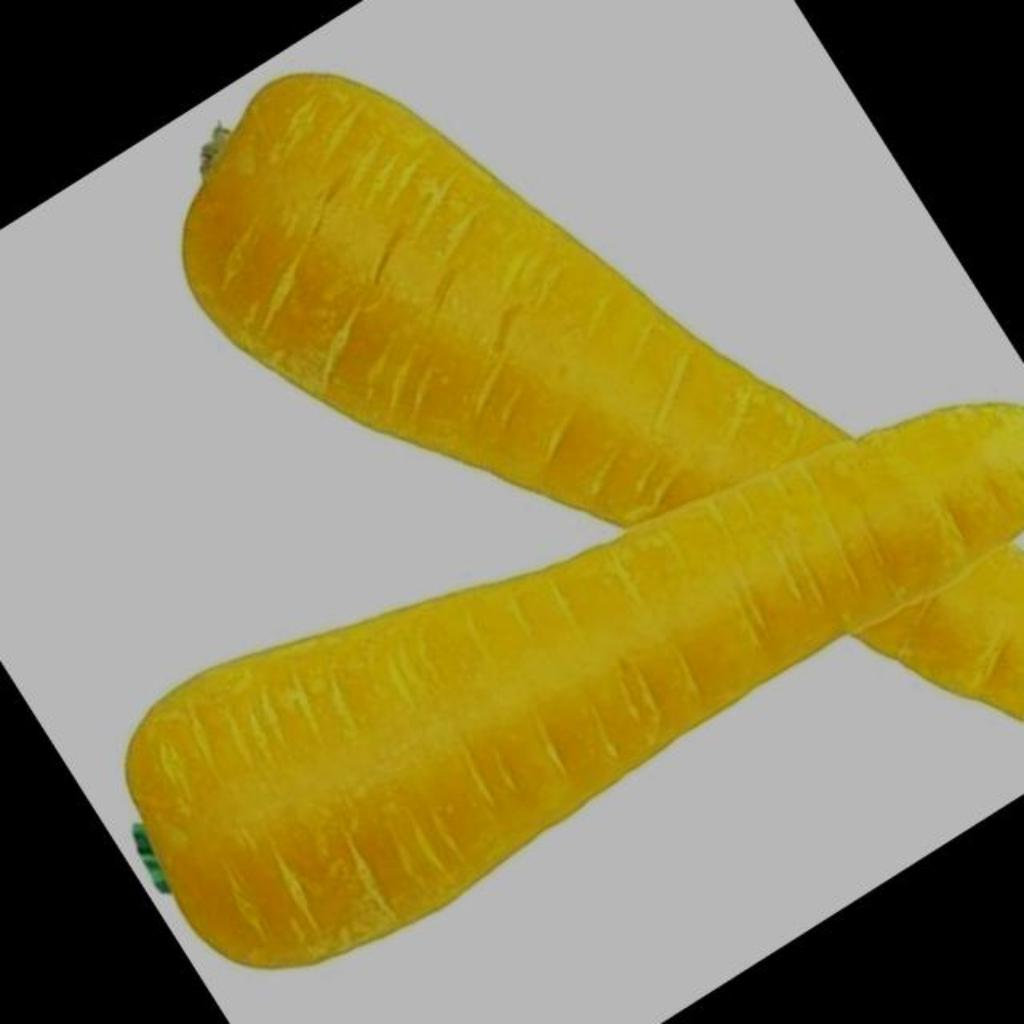carrot: (184, 74, 1024, 719), (128, 406, 1024, 966)
